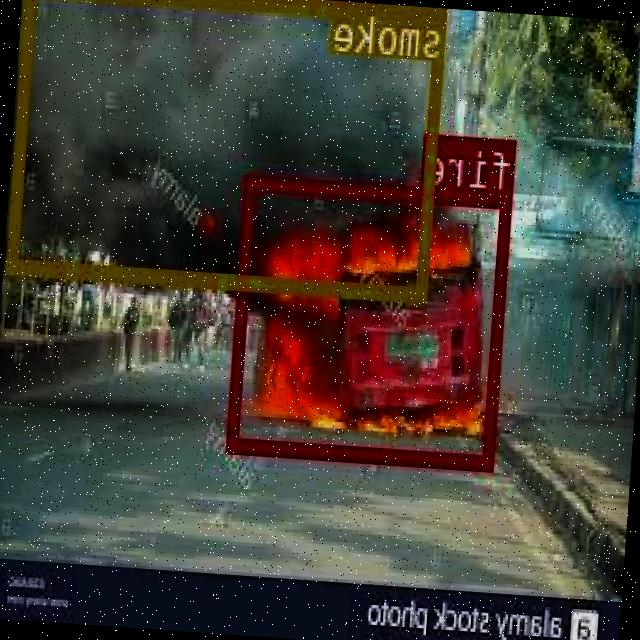fire: (228, 173, 513, 466)
smoke: (8, 0, 447, 300)
